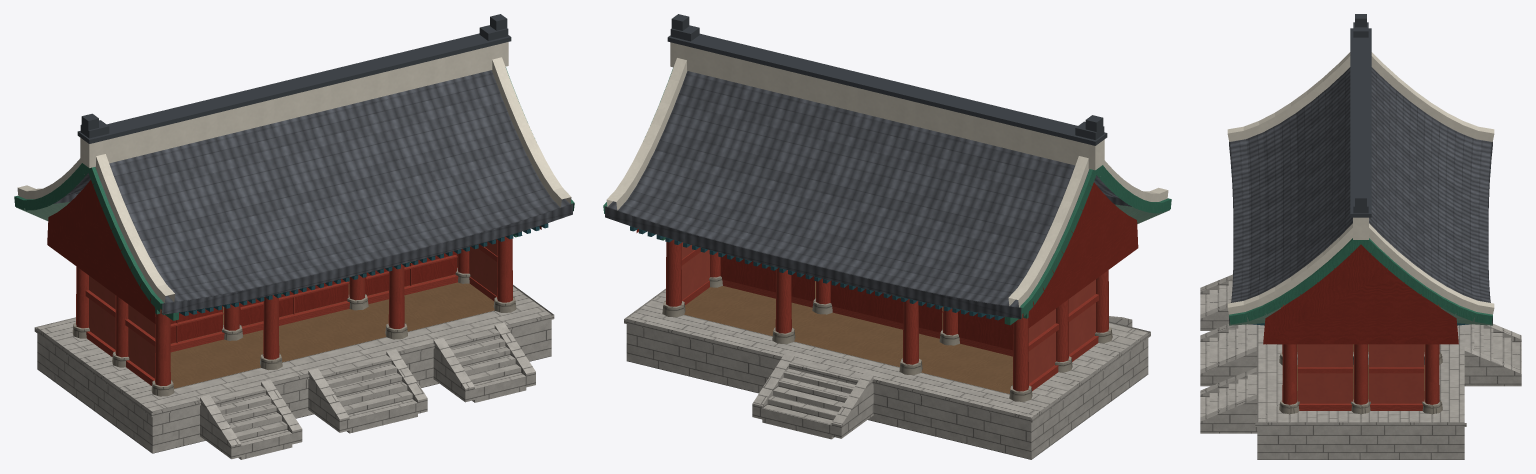
3 renders of one model, left to right at view 1: azimuth 30°, elevation 25°; view 2: azimuth 150°, elevation 25°; view 3: azimuth 270°, elevation 25°, orthographic. The views are drawn at different scales.
Visible parts, largest first — view 1: sinsammun; view 2: sinsammun; view 3: sinsammun.
Part boxes in pixels (box(x1,y1,x2,y2)): sinsammun: box(14, 14, 574, 459); sinsammun: box(603, 14, 1171, 459); sinsammun: box(1200, 14, 1521, 459).
Size of the model in its own units: 14.8 by 9.9 by 10.84.
Materials: 12 (11 with a texture image).
